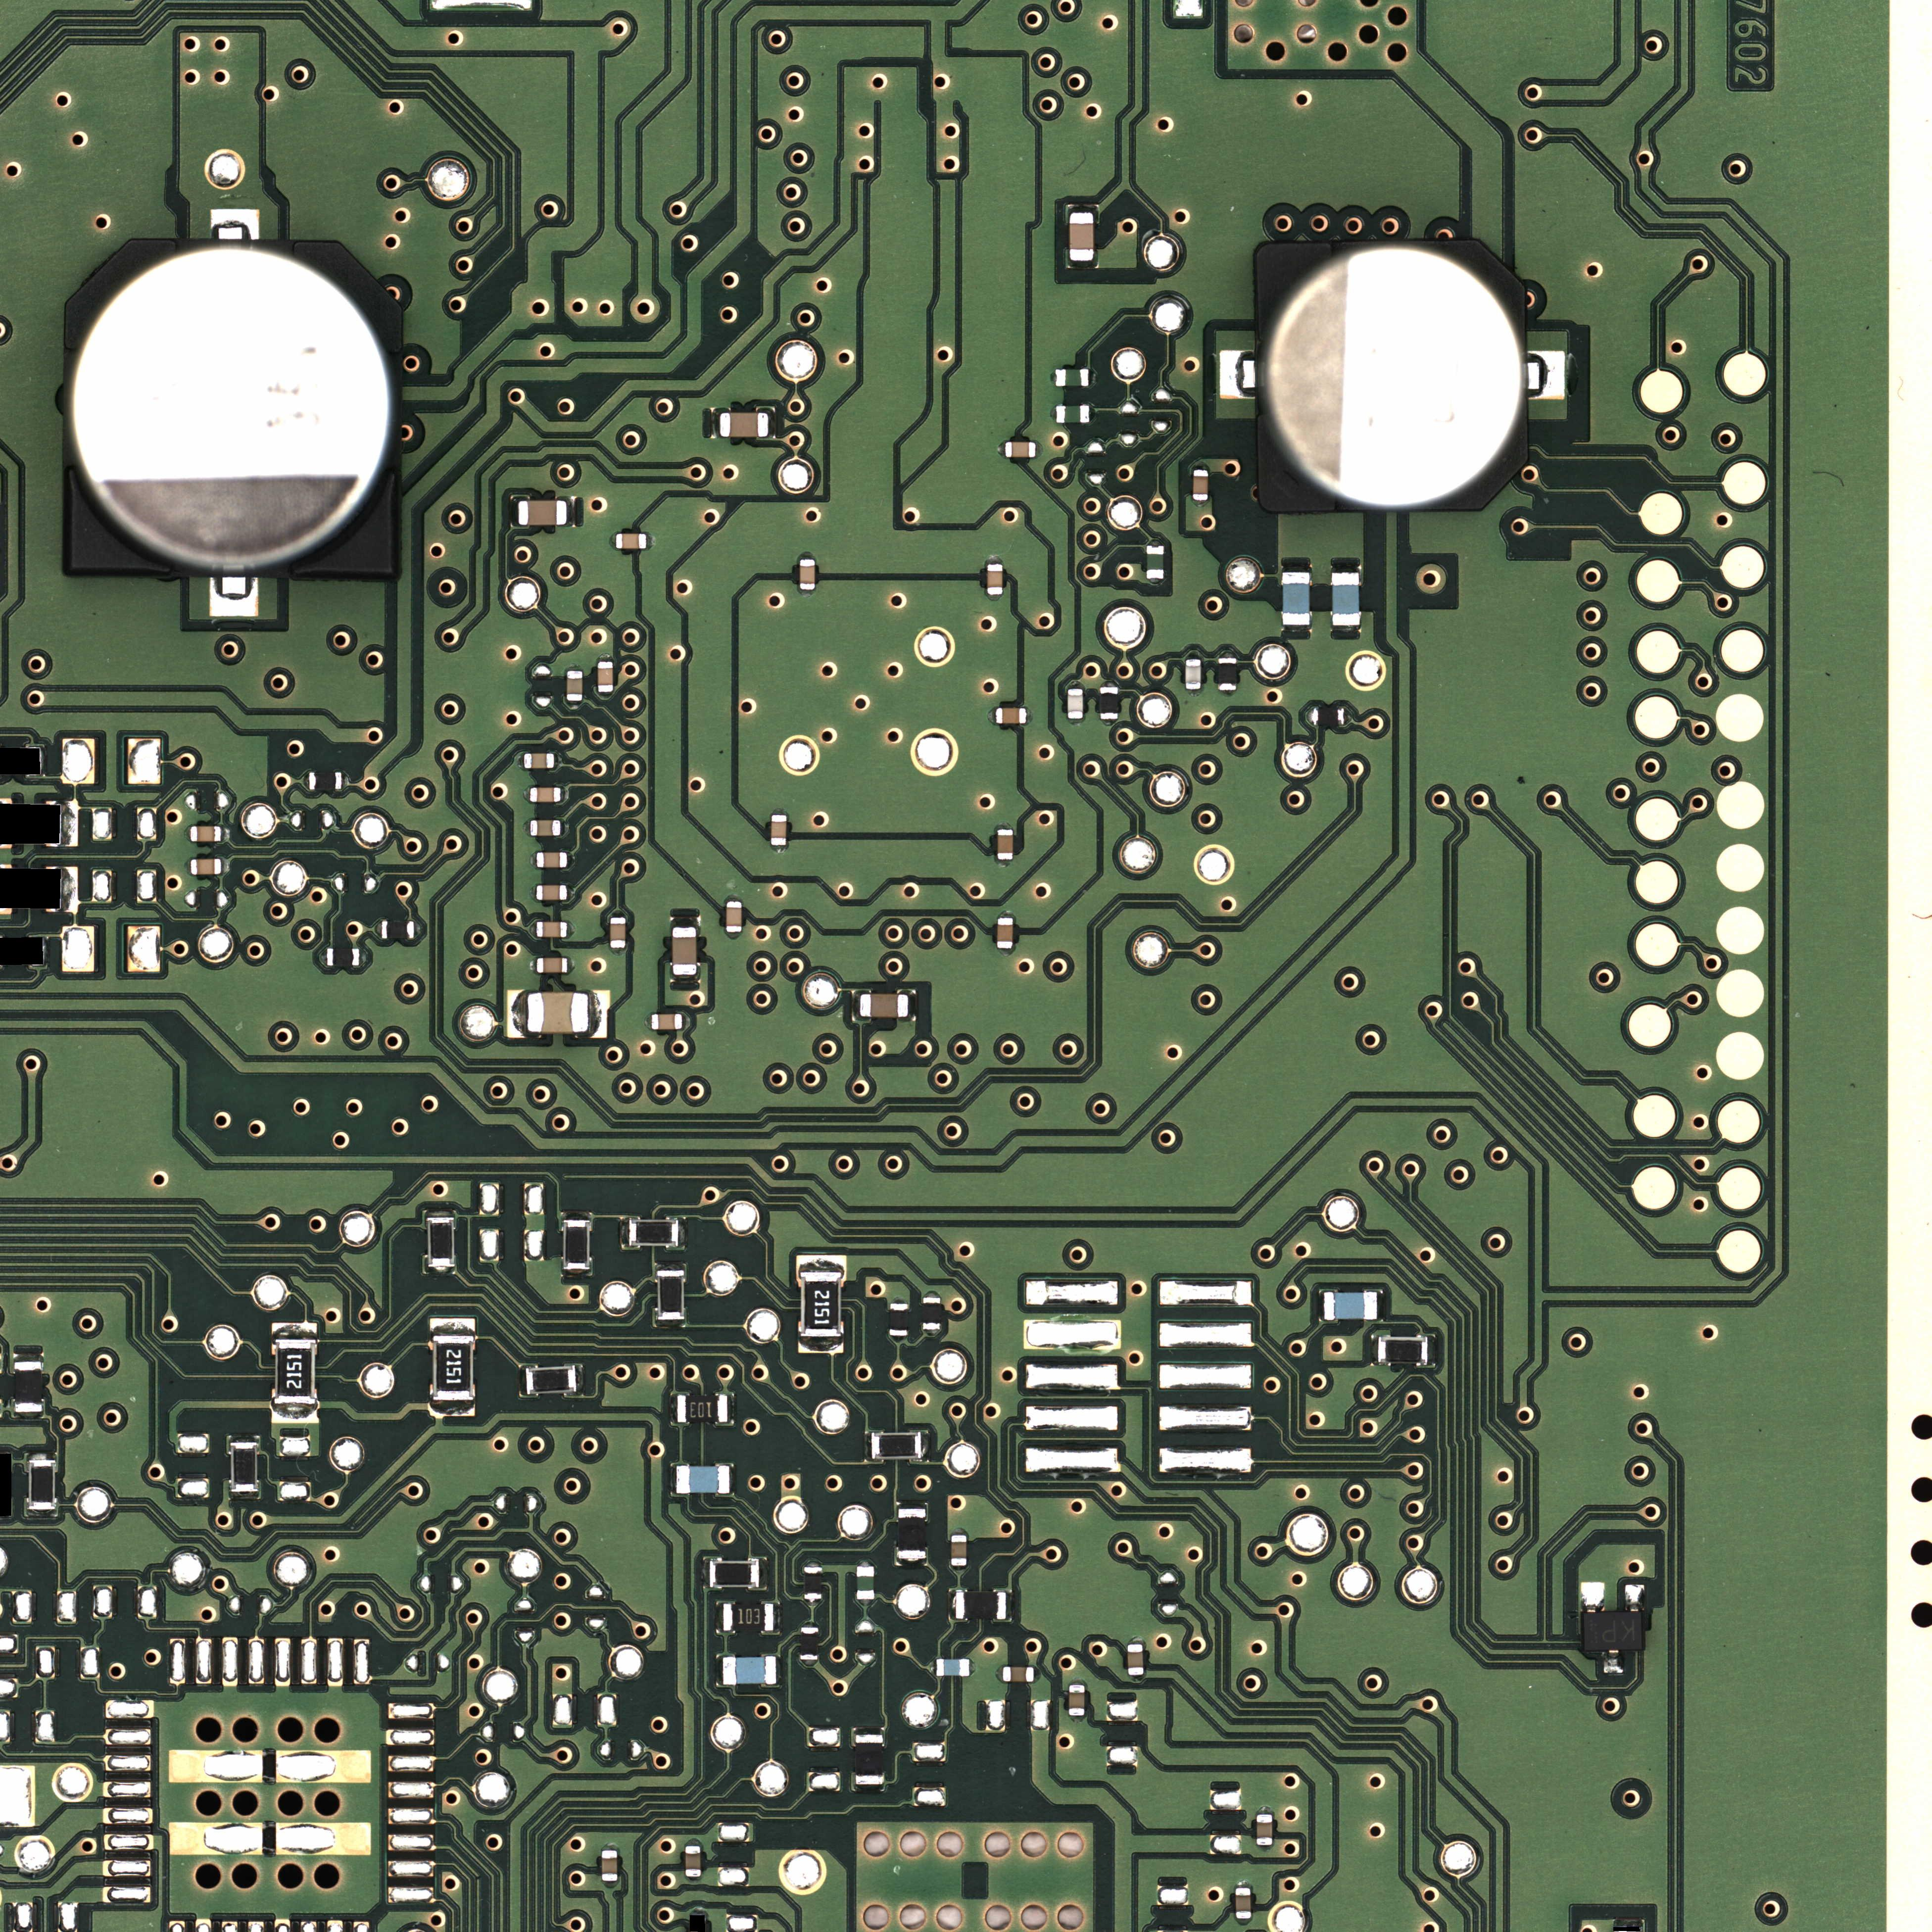Package: (65, 239, 400, 577), (1256, 242, 1529, 508), (433, 1336, 473, 1401), (275, 1340, 314, 1404), (802, 1272, 841, 1336), (527, 993, 589, 1033), (1583, 1612, 1642, 1650), (1324, 1291, 1377, 1319), (722, 1657, 776, 1684), (1333, 573, 1360, 626), (676, 1466, 729, 1493), (723, 1604, 773, 1631), (15, 1362, 43, 1412), (1283, 573, 1309, 625), (956, 1592, 1006, 1619), (898, 1509, 925, 1559), (677, 1396, 728, 1422), (856, 1735, 883, 1784), (709, 1561, 760, 1587), (658, 1270, 684, 1320), (871, 1433, 921, 1458), (526, 1367, 576, 1393), (30, 1460, 55, 1509), (518, 500, 567, 526), (720, 413, 769, 437), (232, 1442, 256, 1492), (673, 927, 697, 975), (429, 1216, 452, 1266), (1070, 212, 1094, 261), (1378, 1339, 1427, 1362), (860, 994, 909, 1017), (629, 1222, 678, 1245), (566, 1220, 588, 1269), (382, 920, 415, 939), (1218, 657, 1238, 690), (309, 772, 342, 790), (923, 1297, 941, 1330), (1311, 707, 1344, 725), (327, 948, 359, 966), (857, 1566, 874, 1600), (1101, 687, 1119, 719), (890, 1304, 908, 1336), (1057, 405, 1089, 423), (804, 1566, 821, 1598), (1147, 545, 1163, 579), (1056, 369, 1089, 386), (801, 1628, 818, 1660), (936, 1659, 969, 1676), (726, 901, 742, 933), (1127, 1644, 1144, 1675), (652, 1014, 682, 1030), (610, 917, 626, 948), (685, 1846, 701, 1877), (997, 829, 1013, 860), (1069, 1685, 1085, 1715), (1256, 1814, 1272, 1845), (191, 859, 222, 874), (1193, 469, 1208, 500), (1236, 1887, 1251, 1919), (800, 559, 816, 590), (531, 820, 561, 836), (1067, 688, 1083, 719), (567, 671, 583, 701), (987, 564, 1003, 594), (191, 859, 221, 874), (952, 1535, 967, 1566), (602, 1850, 618, 1881), (772, 815, 787, 845), (1186, 659, 1201, 689), (1005, 442, 1036, 457), (536, 921, 567, 937), (998, 918, 1013, 949), (598, 662, 613, 692), (996, 708, 1027, 724), (1003, 1667, 1034, 1682), (616, 533, 646, 549), (191, 826, 221, 841), (524, 753, 554, 769), (1003, 1667, 1034, 1682), (537, 958, 568, 973), (537, 853, 568, 868), (531, 787, 561, 802), (537, 885, 567, 900)
Solder: (209, 577, 258, 616), (1529, 351, 1565, 398), (1220, 350, 1254, 398), (210, 209, 260, 239), (271, 1405, 319, 1424), (589, 990, 609, 1037), (508, 991, 527, 1038), (797, 1255, 846, 1271), (430, 1318, 476, 1335), (798, 1337, 844, 1353), (62, 867, 78, 913), (1581, 1582, 1605, 1612), (62, 802, 78, 846), (272, 1323, 318, 1338), (430, 1402, 476, 1416), (1625, 1584, 1644, 1612), (1604, 1650, 1623, 1675), (760, 1557, 770, 1589), (670, 917, 700, 927), (1331, 626, 1361, 636), (509, 495, 519, 526), (1282, 625, 1311, 635), (670, 975, 700, 984), (1428, 1335, 1437, 1366), (895, 1559, 928, 1567), (27, 1510, 58, 1519), (567, 498, 577, 527), (710, 408, 719, 438), (778, 1655, 786, 1687), (861, 1432, 869, 1462), (1331, 564, 1360, 573), (1282, 563, 1311, 572), (922, 1430, 930, 1460), (715, 1654, 723, 1686), (1068, 261, 1099, 269), (852, 990, 860, 1019), (562, 1270, 591, 1278), (1068, 204, 1098, 212), (853, 1727, 885, 1735), (14, 1353, 43, 1361), (229, 1434, 260, 1442), (716, 1602, 723, 1633), (27, 1451, 56, 1459), (41, 746, 48, 774), (769, 410, 776, 438), (426, 1266, 456, 1274), (621, 1218, 628, 1248), (656, 1262, 685, 1269), (425, 1209, 454, 1216), (1370, 1334, 1377, 1365), (360, 946, 369, 968), (317, 945, 327, 968), (43, 936, 50, 965), (13, 1412, 44, 1419), (702, 1557, 709, 1588), (775, 1602, 782, 1633), (563, 1211, 590, 1219), (656, 1320, 686, 1327), (230, 1492, 260, 1499), (909, 991, 916, 1019), (729, 1394, 736, 1423), (851, 1785, 885, 1791), (519, 1367, 526, 1395), (898, 1501, 926, 1508), (679, 1219, 686, 1246), (671, 1394, 677, 1423), (730, 1464, 737, 1494), (670, 1466, 676, 1496), (577, 1365, 583, 1394), (1007, 1591, 1013, 1620), (949, 1591, 955, 1619), (1218, 648, 1237, 657), (1185, 649, 1202, 659), (415, 920, 423, 940), (1378, 1289, 1383, 1320), (374, 920, 381, 940), (986, 555, 1003, 564), (646, 532, 654, 550), (609, 531, 616, 550), (683, 1012, 690, 1031), (1345, 707, 1352, 726), (1304, 707, 1311, 726), (1319, 1290, 1323, 1320), (1127, 1637, 1143, 1644), (1068, 1677, 1085, 1684), (645, 1012, 652, 1031), (1192, 500, 1210, 507), (1027, 707, 1033, 725), (989, 707, 996, 725), (1089, 369, 1096, 386), (690, 1908, 707, 1915), (602, 1881, 620, 1887), (1193, 462, 1208, 469), (1067, 680, 1083, 688), (1256, 1807, 1273, 1814), (998, 441, 1005, 458), (610, 948, 626, 955), (1218, 689, 1237, 695), (891, 1297, 908, 1304), (1146, 579, 1166, 584), (611, 910, 626, 917), (998, 911, 1014, 918), (1090, 405, 1096, 422), (1050, 406, 1057, 423), (1145, 539, 1165, 545), (997, 823, 1013, 829), (951, 1565, 967, 1572), (889, 1336, 908, 1342), (222, 826, 228, 842), (222, 858, 229, 874), (997, 949, 1013, 955), (1236, 1918, 1253, 1924), (997, 1666, 1003, 1683), (969, 1659, 975, 1676), (930, 1659, 936, 1676), (800, 1660, 818, 1665), (342, 772, 347, 790), (303, 772, 308, 790), (800, 1620, 818, 1626), (803, 1560, 821, 1565), (804, 1599, 822, 1604), (1236, 1881, 1251, 1887), (800, 552, 815, 559), (923, 1330, 941, 1335), (685, 1840, 701, 1846), (602, 1844, 618, 1850), (184, 858, 190, 874), (987, 595, 1004, 601), (598, 655, 613, 661), (1050, 369, 1056, 386), (1101, 681, 1118, 687), (1186, 689, 1202, 695), (567, 665, 582, 671), (184, 825, 190, 841), (799, 590, 816, 595), (923, 1291, 940, 1297), (1034, 1666, 1039, 1683), (725, 933, 742, 938), (567, 702, 582, 708), (1256, 1845, 1273, 1850), (771, 846, 787, 851), (952, 1530, 968, 1535), (686, 1879, 703, 1884), (1101, 719, 1118, 724), (1068, 719, 1084, 724), (771, 809, 787, 815), (997, 860, 1013, 865), (531, 921, 536, 937), (1068, 1715, 1086, 1720), (1036, 441, 1041, 458), (725, 896, 742, 901), (1129, 1675, 1144, 1681), (568, 852, 573, 868), (531, 852, 536, 868), (525, 821, 530, 836), (561, 820, 566, 836), (561, 787, 566, 803), (525, 787, 530, 803), (555, 753, 560, 769), (519, 754, 524, 770), (567, 922, 572, 938), (568, 958, 573, 974), (531, 958, 536, 973), (568, 885, 573, 901), (532, 884, 537, 900), (857, 1561, 873, 1566), (858, 1600, 874, 1605)
